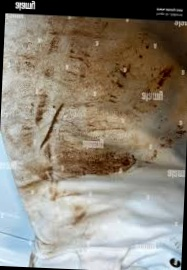earth: (52, 150, 132, 175), (42, 100, 65, 151), (67, 31, 92, 75), (162, 126, 182, 151), (112, 64, 129, 87), (73, 205, 89, 226), (156, 68, 173, 86)
